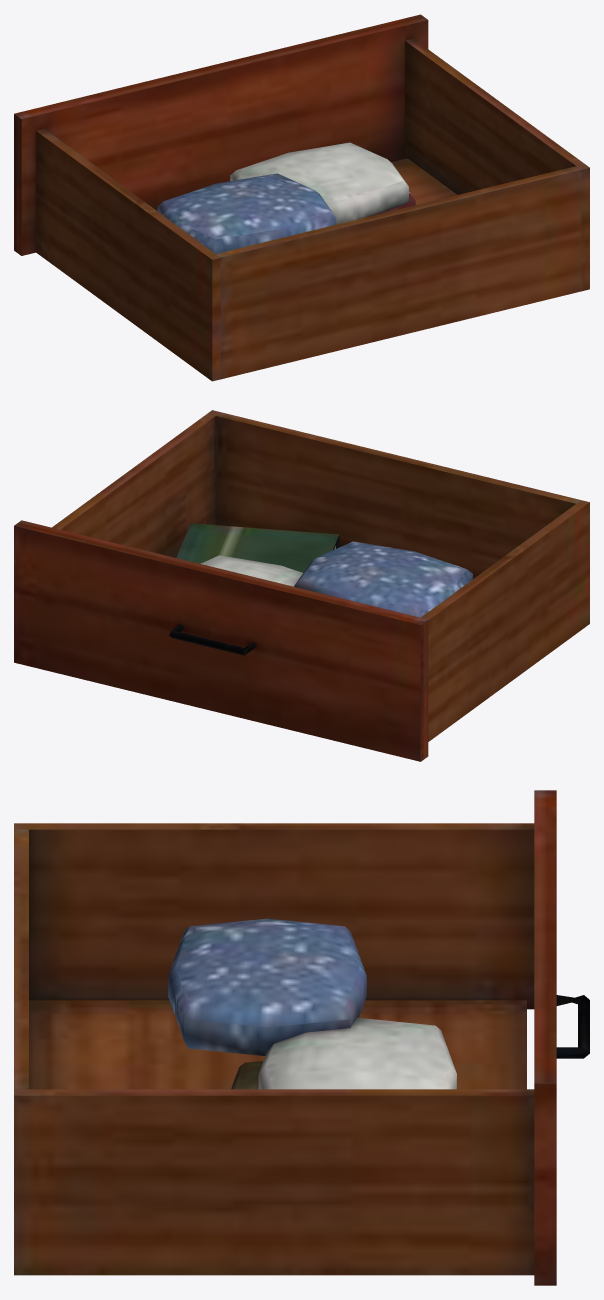
File: drawer_floor_full_lod1_web.glb
3 views of the same model, one above another, from view 1: azimuth 30°, elevation 25°; view 2: azimuth 150°, elevation 25°; view 3: azimuth 270°, elevation 25° (orthographic). The views are drawn at different scales.
Parts seen in each view (by area): view 1: DrawerFloorFull_Body; view 2: DrawerFloorFull_Body; view 3: DrawerFloorFull_Body.
Part boxes in pixels (x1,y1,x2,y2): DrawerFloorFull_Body: (14,14,589,381); DrawerFloorFull_Body: (14,410,589,761); DrawerFloorFull_Body: (14,790,589,1285).
Bounding box in the file's own units: 0.56 × 0.18 × 0.4649.
Materials: 1 (1 with a texture image).
